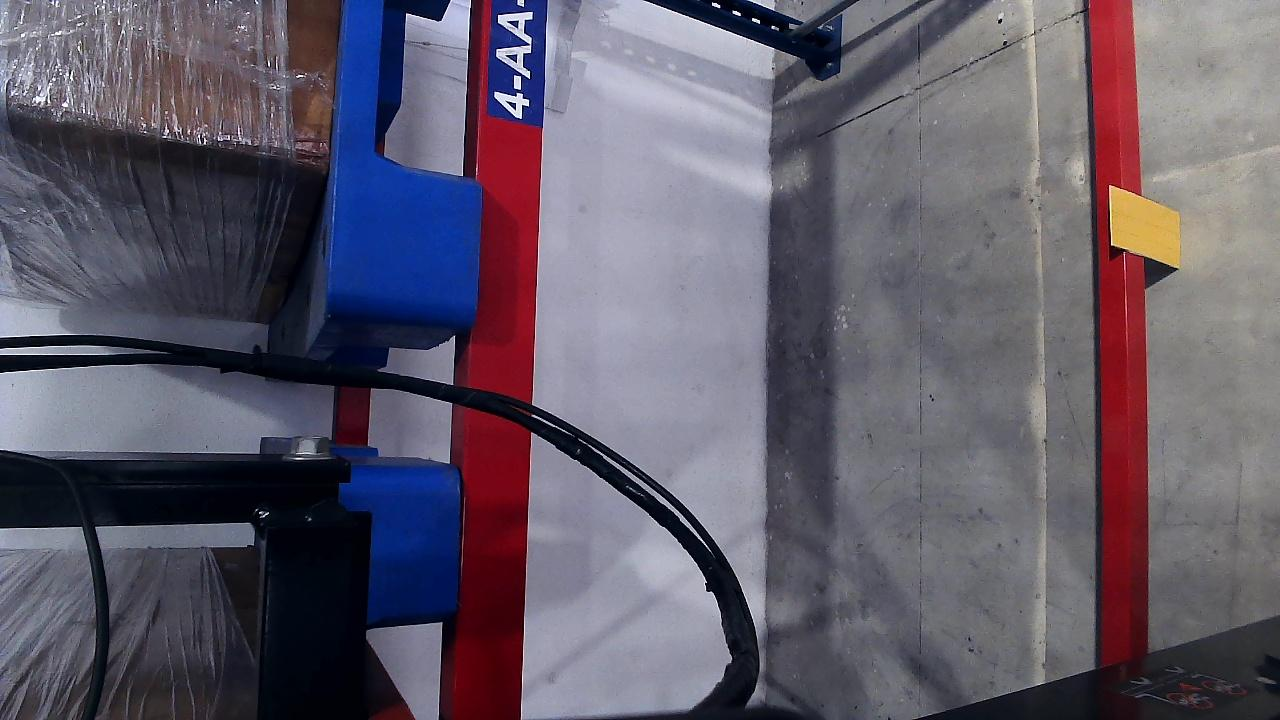h_rack: (444, 0, 550, 717), (1087, 0, 1150, 660)
orange_strip: (1108, 184, 1181, 265)
small_pallet: (332, 0, 481, 320)
